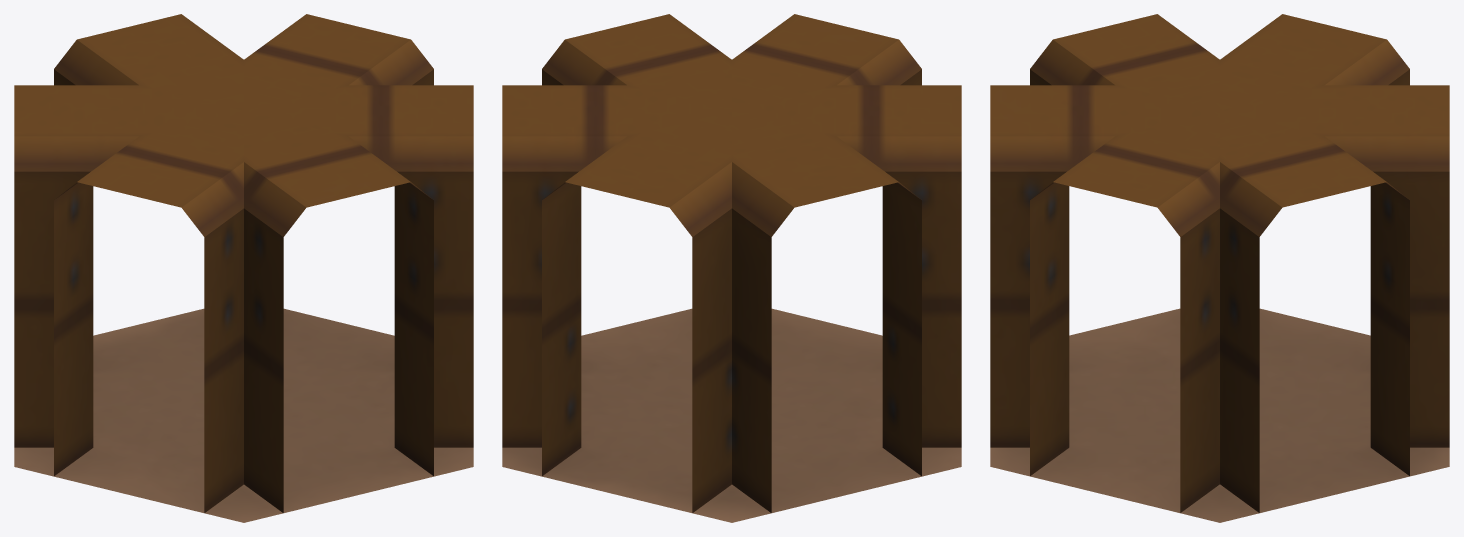
Rendered from Barriere_X2.FBX.
3 views of the same model, side by side, from view 1: azimuth 30°, elevation 25°; view 2: azimuth 150°, elevation 25°; view 3: azimuth 270°, elevation 25° (orthographic).
Visible parts, largest first — view 1: Barriere_X2; view 2: Barriere_X2; view 3: Barriere_X2.
Boxes of the visible parts, x1,y1,x2,y2 form: Barriere_X2: (14,14,473,522); Barriere_X2: (502,14,961,522); Barriere_X2: (990,14,1449,522).
Size of the model in its own units: 1 by 0.6247 by 0.8663.
